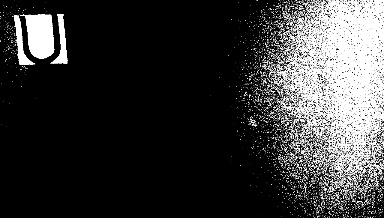U: (16, 14, 66, 64)
